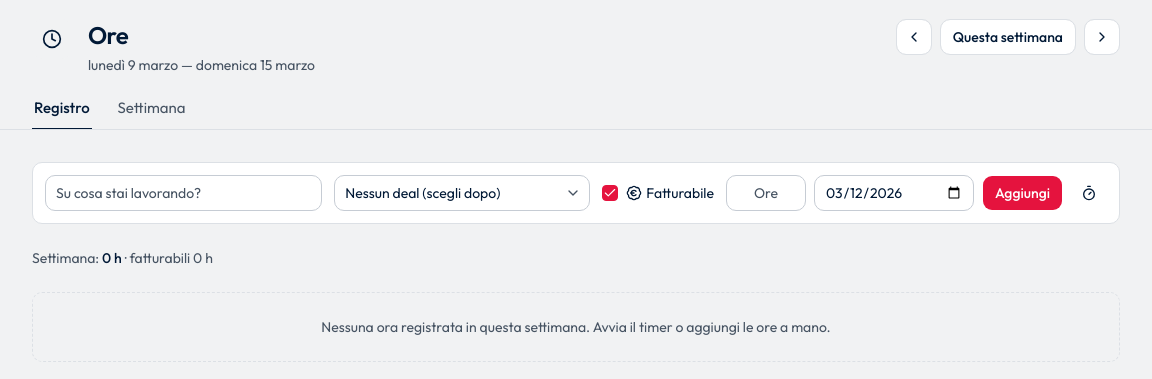
Test case: TimePage › moves a whole week at a time
Expected: the text "9 marzo" is shown, [88, 56, 315, 74]
Click the button named "settimana precedente" at (914, 37), box [896, 19, 932, 55]
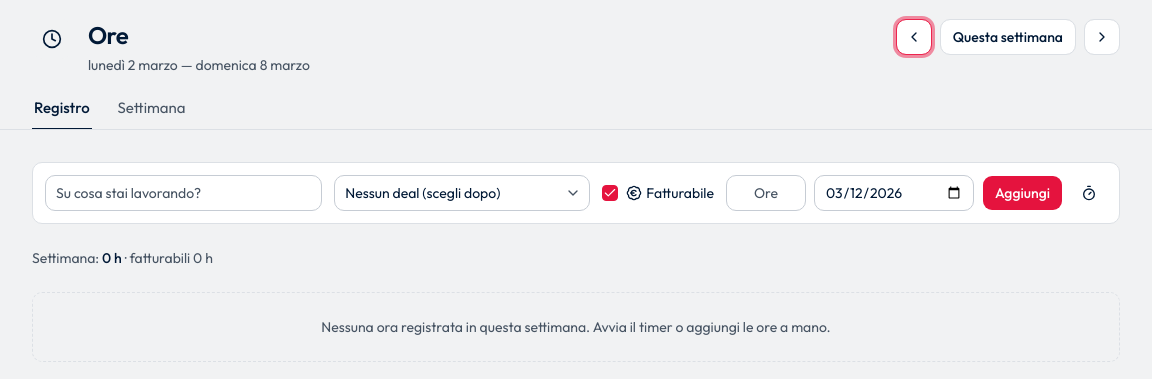
Expected: the text "2 marzo" is shown, [88, 56, 310, 74]
